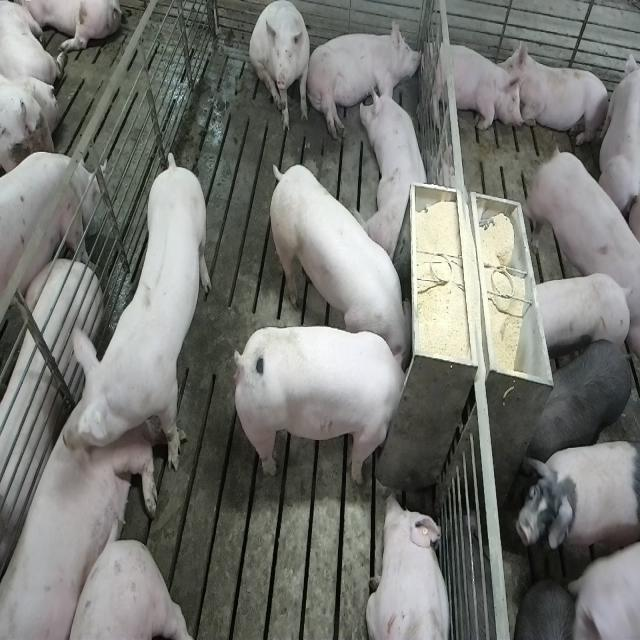Feeding: (265, 160, 412, 368), (239, 323, 416, 486)
Lateral_lying: (306, 15, 424, 142)
Sitting: (250, 1, 312, 135)
Standing: (65, 156, 211, 485), (0, 155, 98, 350), (523, 145, 638, 307), (526, 333, 638, 466), (516, 438, 638, 559), (531, 271, 632, 352), (564, 529, 637, 638)
Sternal_lying: (0, 363, 151, 635), (360, 70, 433, 260), (365, 491, 453, 640), (509, 40, 612, 149), (423, 37, 521, 137)
